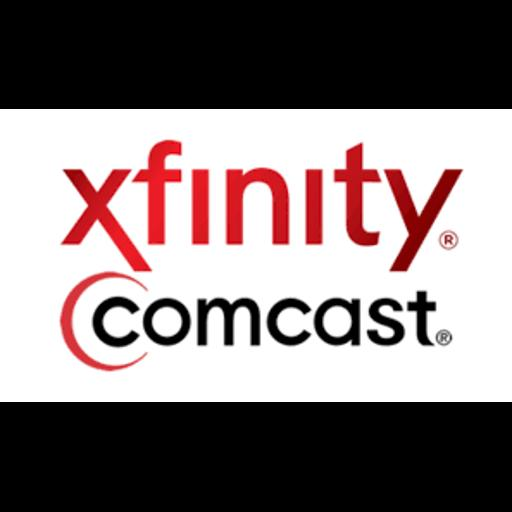Comcast Corporation: (0, 109, 512, 402)
